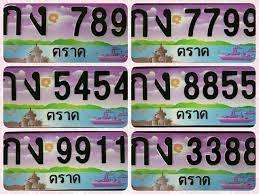1: (96, 135, 109, 164), (114, 135, 126, 165)
3: (205, 136, 224, 168), (185, 136, 203, 168)
4: (73, 70, 92, 101), (114, 71, 130, 101)
5: (92, 68, 112, 101), (52, 70, 73, 100), (241, 70, 258, 102), (221, 70, 238, 100)
7: (71, 6, 89, 38), (185, 7, 202, 38), (204, 7, 219, 38)
8: (183, 70, 200, 103), (91, 6, 109, 37), (224, 137, 241, 168), (204, 70, 219, 102), (243, 137, 258, 167)
9: (222, 7, 241, 38), (111, 6, 128, 38), (55, 137, 73, 165), (74, 136, 91, 164), (243, 8, 258, 36)
A01: (129, 135, 150, 168), (129, 6, 150, 39), (2, 135, 22, 168), (2, 5, 22, 37), (131, 72, 148, 102)
A07: (23, 71, 43, 103), (26, 136, 46, 167), (155, 136, 175, 166), (29, 7, 48, 36), (153, 72, 171, 102), (155, 8, 172, 38)
TRT: (50, 44, 89, 61), (174, 43, 212, 60), (46, 170, 85, 186), (174, 107, 211, 123), (176, 173, 215, 188), (44, 108, 83, 122)
